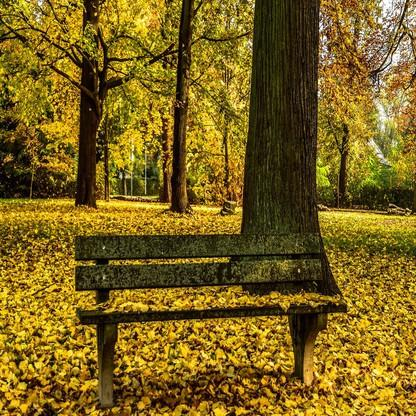obstacle: (67, 229, 354, 398)
